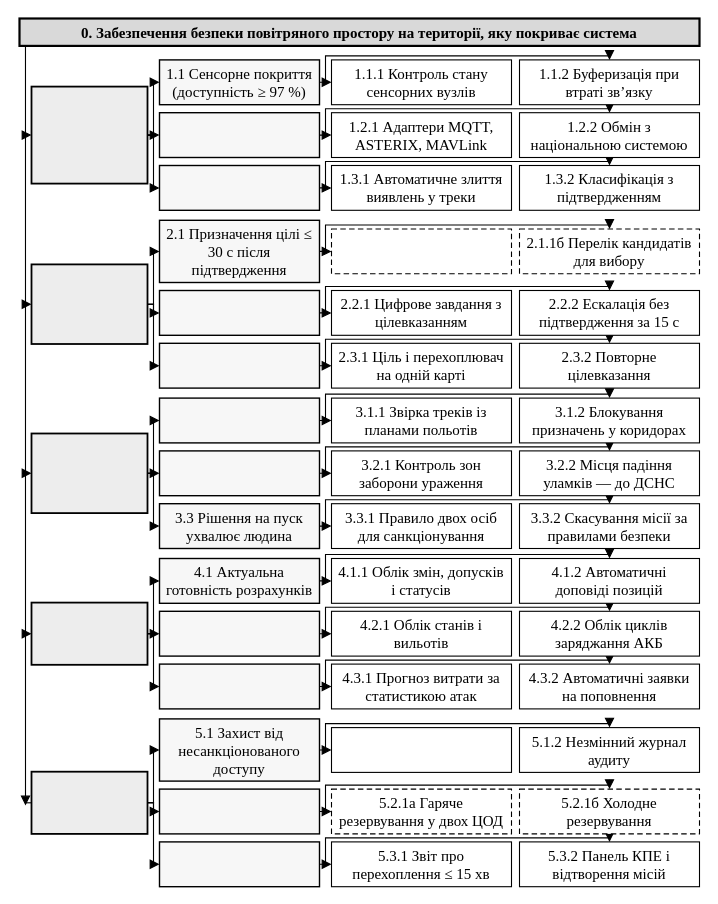
The diagram is 718 pixels wide and 904 high, and some of its shapes have lost their labels. Each missing label, with the centre of its shape:
1. Повна та достовірна обізнаність про повітряну обстановку: (x=89, y=134)
1.2 Єдина обстановка з різнотипних джерел: (x=239, y=135)
1.3 Достовірні треки (хибні тривоги ≤ 5 %): (x=239, y=187)
2. Своєчасна нейтралізація повітряних загроз: (x=89, y=303)
2.1.1а Автопризначення з підтвердженням: (x=421, y=251)
2.2 Доставка завдання розрахунку ≤ 1 с: (x=239, y=312)
2.3 Супровід місії в реальному часі: (x=239, y=365)
3. Безпека дружньої авіації та населення: (x=89, y=473)
3.1 Жодного ураження дружніх суден: (x=239, y=420)
3.2 Мінімізація шкоди цивільним об’єктам: (x=239, y=473)
4. Постійна готовність сил і засобів: (x=89, y=633)
4.2 Облік ресурсу перехоплювачів і АКБ: (x=239, y=633)
4.3 Запас на позиціях ≥ 2 ночей: (x=239, y=686)
5. Стійка та захищена робота системи: (x=89, y=802)
5.1.1 mTLS, RBAC, двофакторний вхід: (x=421, y=749)
5.2 Доступність ядра 99,95 %: (x=239, y=811)
5.3 Вдосконалення за результатами аналізу: (x=239, y=864)
